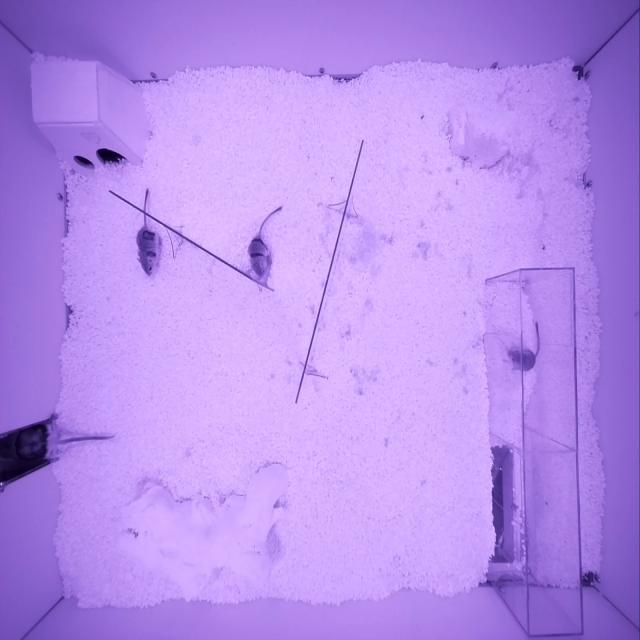adult_back: (0, 425, 59, 461)
pup_fluffy: (507, 349, 535, 371)
pup_h_stripe: (247, 236, 270, 276)
pup_spotted: (136, 225, 160, 276)
